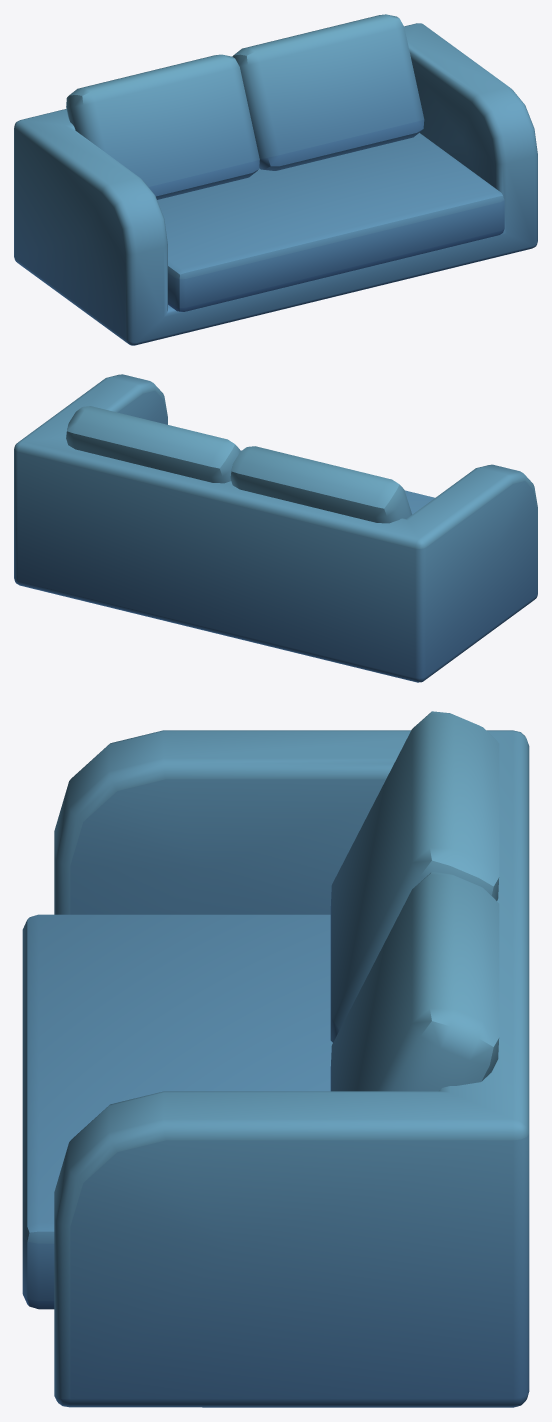
The model's file is K_couch.glb.
The picture shows the model from 3 angles, top to bottom: view 1: azimuth 30°, elevation 25°; view 2: azimuth 150°, elevation 25°; view 3: azimuth 270°, elevation 25°; orthographic projection. The views are drawn at different scales.
Visible parts, largest first — view 1: couch; view 2: couch; view 3: couch.
Part boxes in pixels (x1,y1,x2,y2): couch: [14, 14, 537, 345]; couch: [14, 374, 537, 682]; couch: [22, 711, 529, 1407].
Size of the model in its own units: 3 by 1.22 by 1.6.
